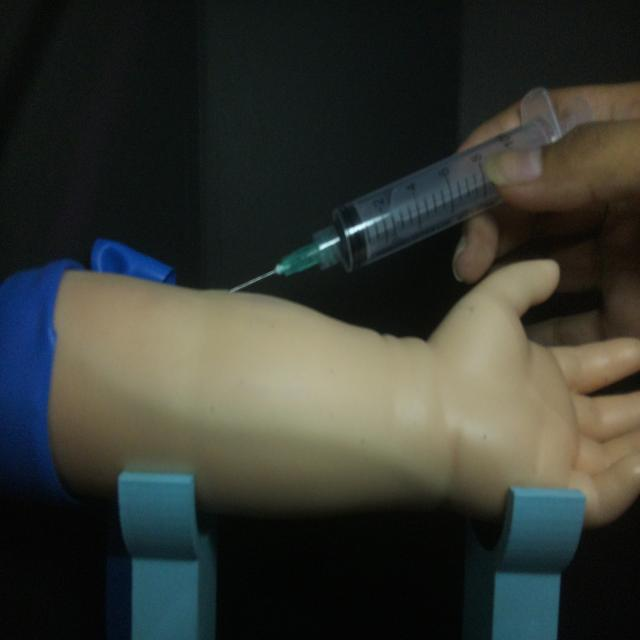21deg: (228, 89, 594, 293)
